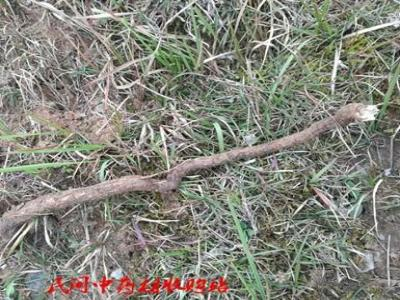Root: (0, 103, 376, 248)
